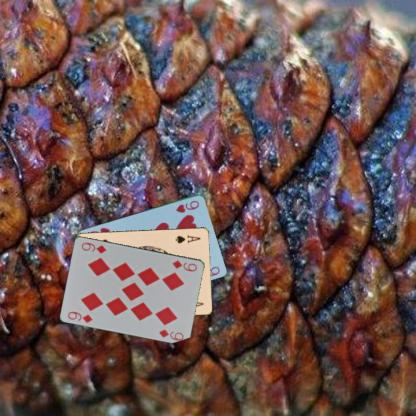9d: (170, 257, 198, 273), (65, 309, 94, 324)
9h: (174, 198, 200, 214)
As: (172, 233, 202, 244)
